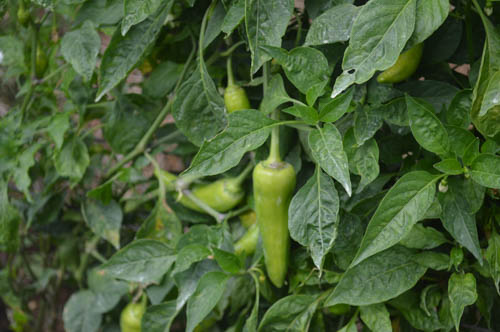ChiliPepper: (247, 165, 297, 290), (156, 173, 242, 222), (378, 43, 433, 96), (223, 86, 250, 124), (119, 300, 149, 330)
